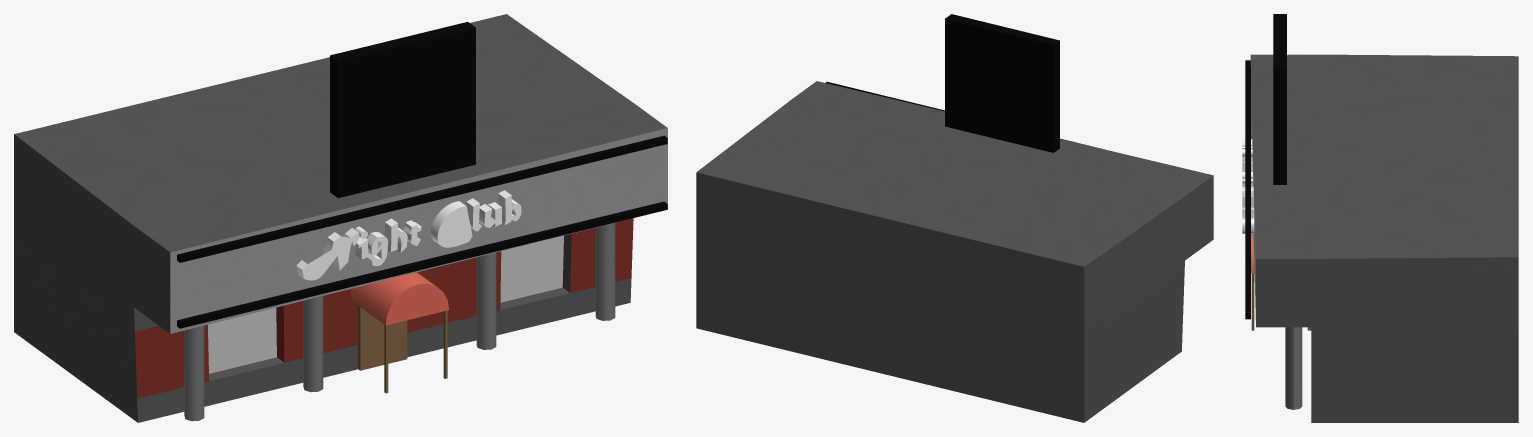
The model's file is night_club.fbx.
The picture shows the model from 3 angles, left to right: view 1: azimuth 30°, elevation 25°; view 2: azimuth 150°, elevation 25°; view 3: azimuth 270°, elevation 25°; orthographic projection. The views are drawn at different scales.
Parts seen in each view (by area): view 1: typeMesh2; view 2: typeMesh2; view 3: typeMesh2.
Boxes of the visible parts, x1=… form: typeMesh2: x1=14, y1=14, x2=667, y2=422; typeMesh2: x1=696, y1=14, x2=1213, y2=422; typeMesh2: x1=1242, y1=14, x2=1518, y2=422.
Size of the model in its own units: 87.95 by 56.23 by 50.3.
Materials: 4 (1 with a texture image).
